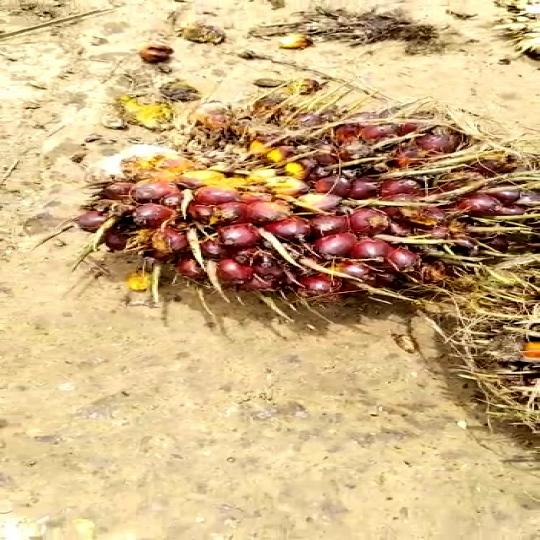masak: (74, 97, 540, 330)
